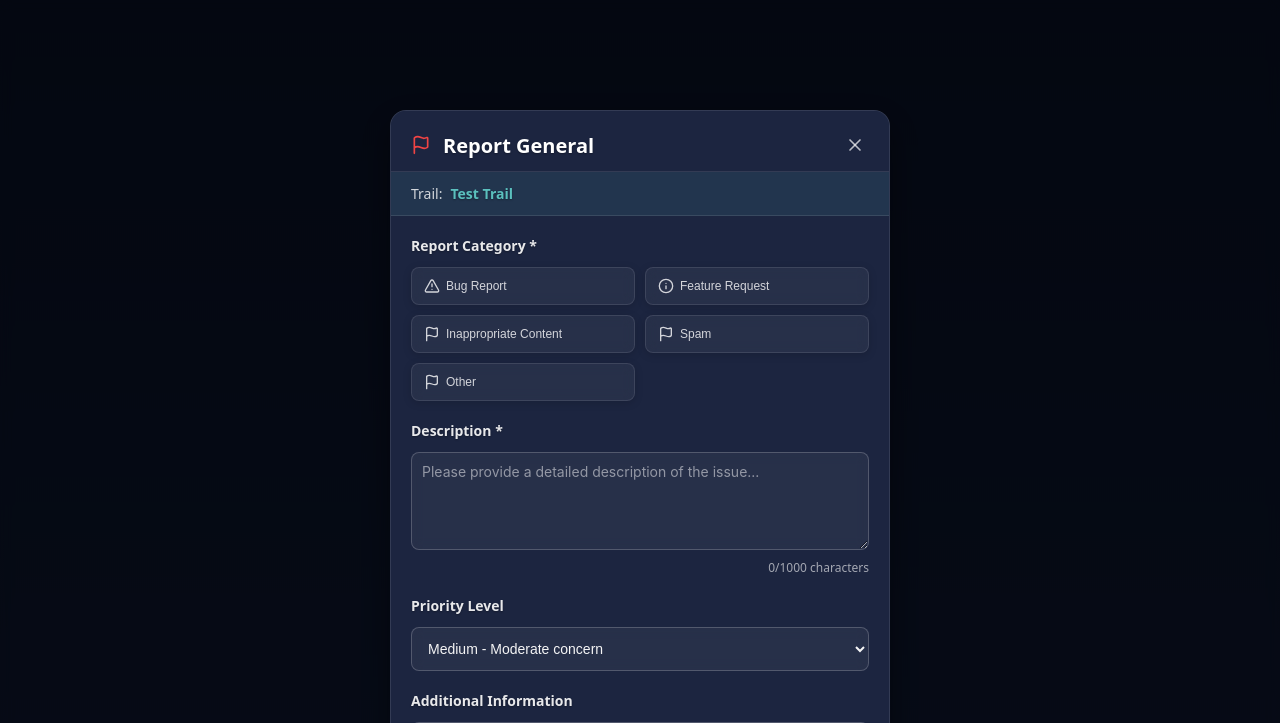
Test case: ReportModal › Form Interactions › shows character count for description
Type "Test" into the text box with placeholder "Please provide a detailed description of the issue...".
click(640, 501); type("Test")  # box [411,452,869,550]
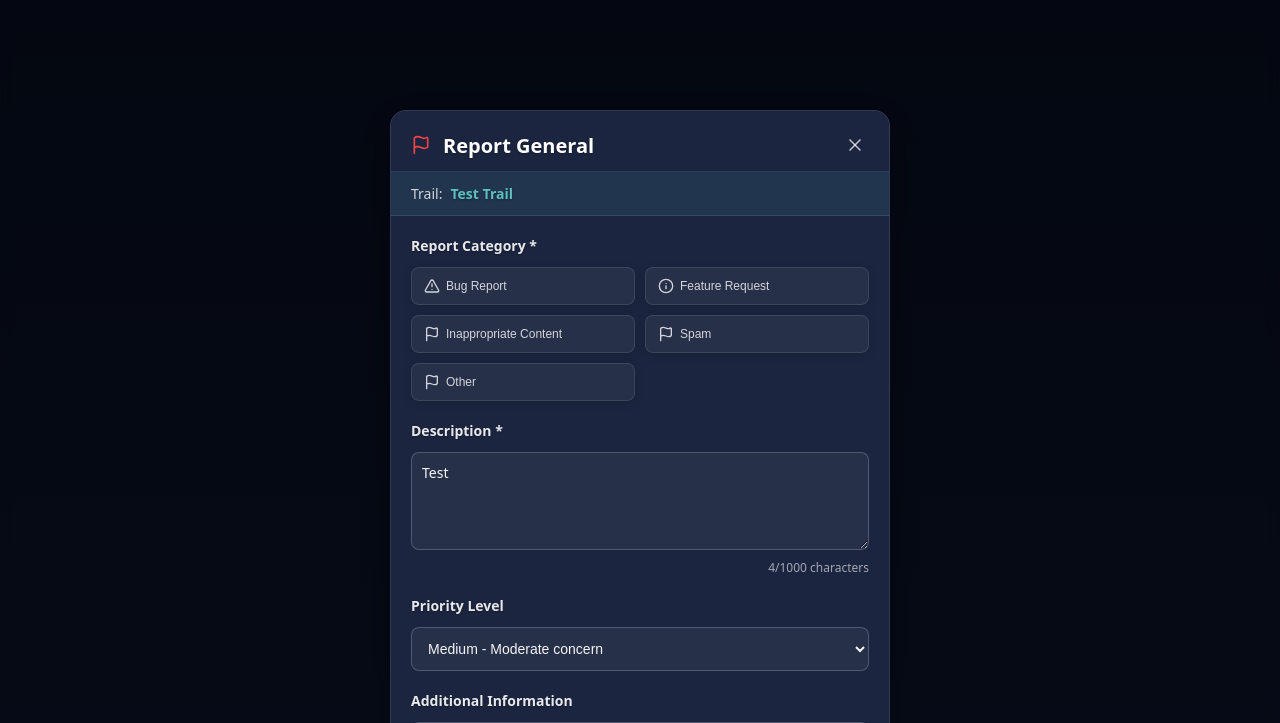
Expected: the text "4/1000 characters" is shown, [768,559,869,576]
